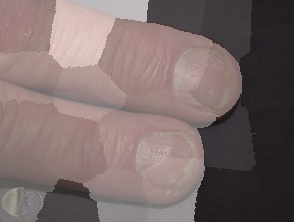Nail_psoriasis: (164, 40, 243, 119), (126, 126, 205, 203)
